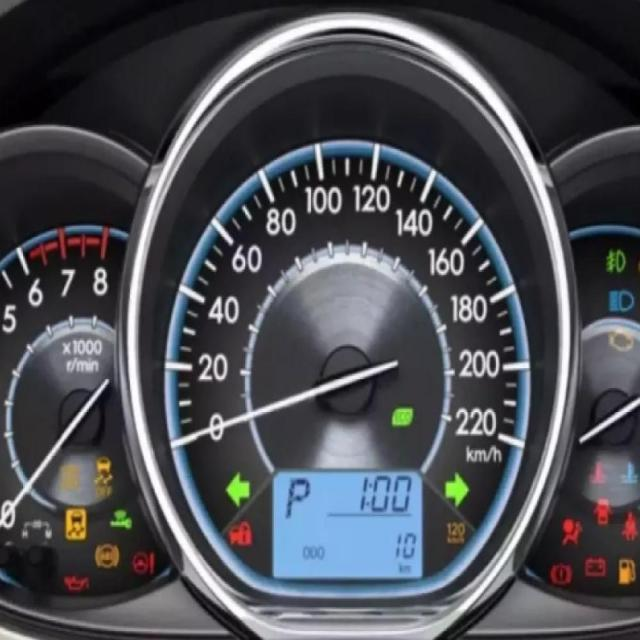Electronic Power Steering: (131, 548, 155, 576)
High Engine Coolant Temperature: (588, 460, 608, 484)
Seat Belt: (622, 511, 638, 542)
